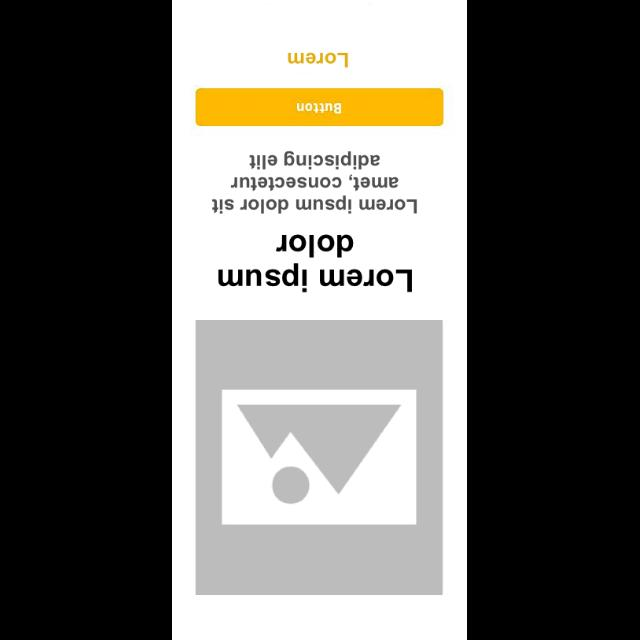image: (195, 320, 442, 594)
text: (212, 150, 418, 214), (218, 234, 412, 292), (288, 52, 348, 68)
textbutton: (196, 88, 444, 126)
